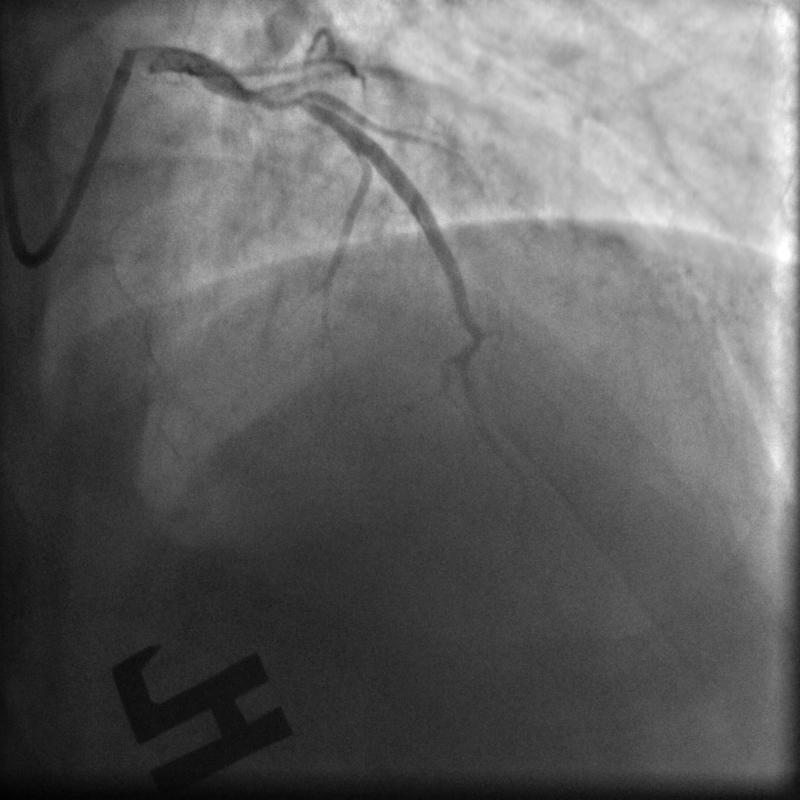Stenosis: (246, 83, 311, 116)
